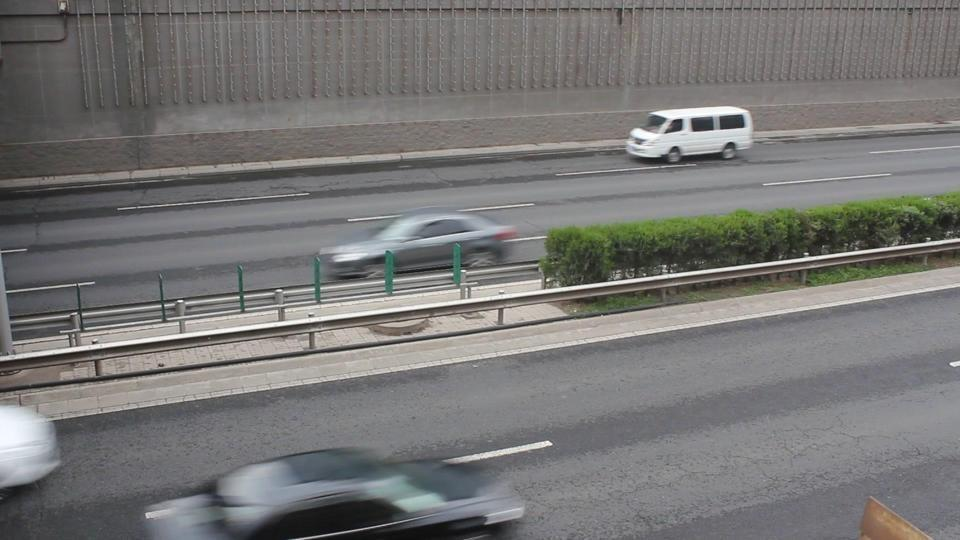car: (135, 448, 530, 538), (320, 210, 519, 279), (624, 106, 756, 164), (1, 405, 62, 494)
